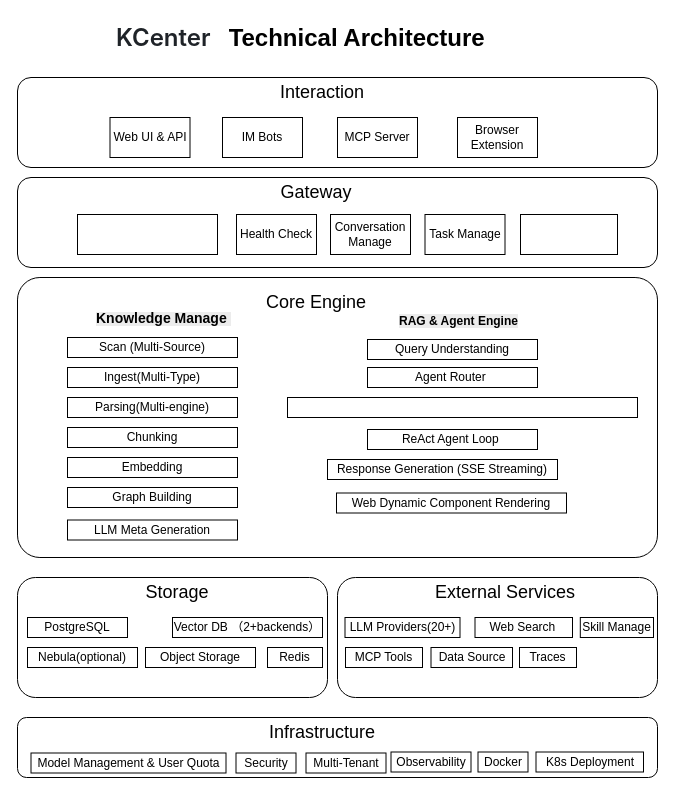
The diagram is 675 pixels wide and 795 high, and some of its shapes have lost their labels. The centre of each missing label's shape, as x and y in pixels:
"Assets Manage" goes at (569,234).
"Authentication & Authorization" goes at (147,234).
"Hybird Retrieval(BM25 +Vector +Graph + Web Search + Rerank)" goes at (462,407).
